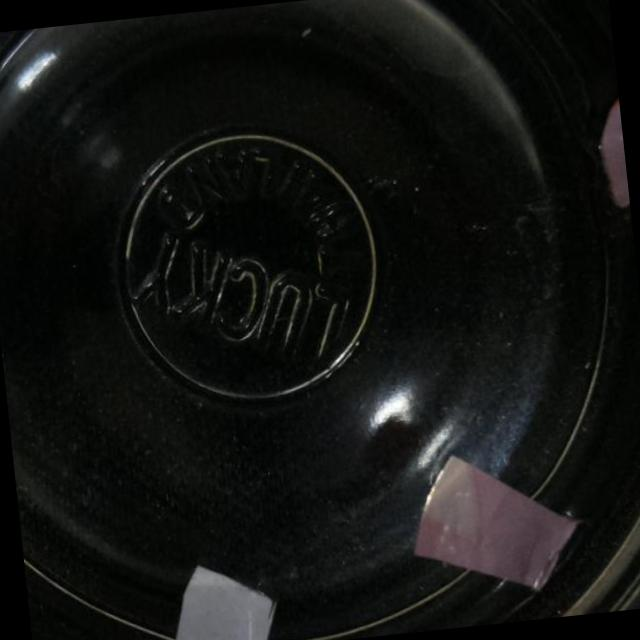fiber: (399, 440, 584, 606), (163, 553, 282, 640), (588, 96, 630, 218)
